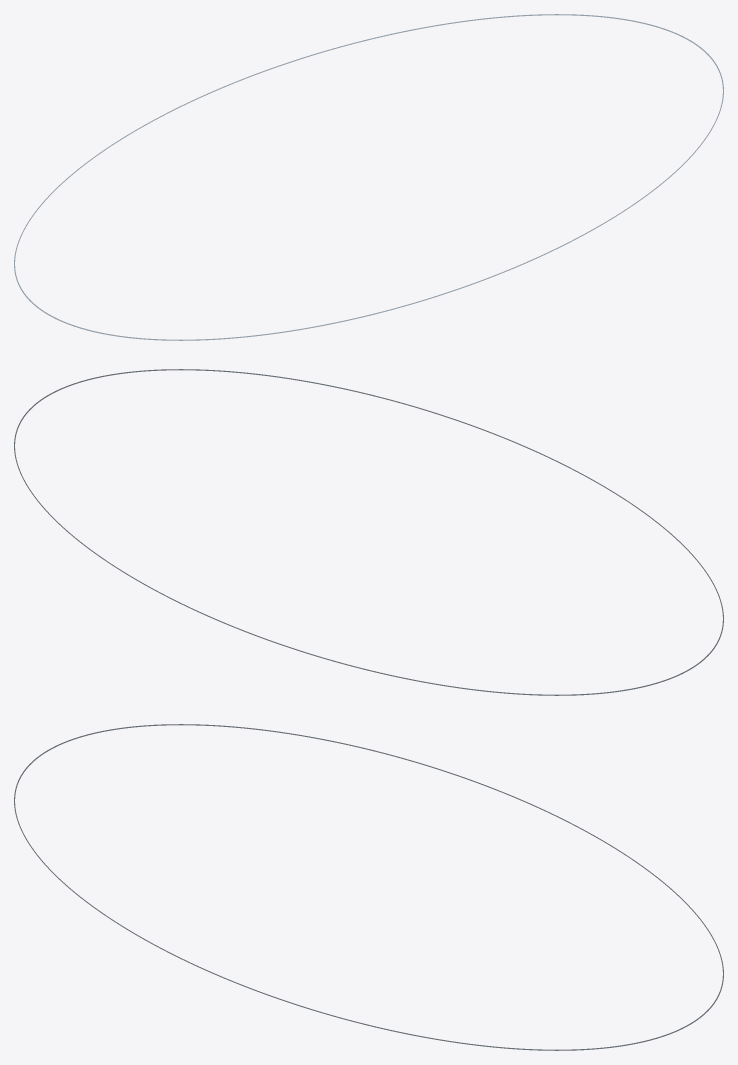
Rendered from Albedo_SolarIsotomaState_State_FullBattleBoundary0.fbx.
3 views of the same model, one above another, from view 1: azimuth 30°, elevation 25°; view 2: azimuth 150°, elevation 25°; view 3: azimuth 330°, elevation 25° (orthographic).
Parts seen in each view (by area): view 1: PART_FullBattleBoundary0; view 2: PART_FullBattleBoundary0; view 3: PART_FullBattleBoundary0.
Part boxes in pixels (x1,y1,x2,y2): PART_FullBattleBoundary0: (14,14,723,340); PART_FullBattleBoundary0: (14,369,723,695); PART_FullBattleBoundary0: (14,724,723,1050).
Bounding box in the file's own units: 2283 × 851 × 0.000139.
